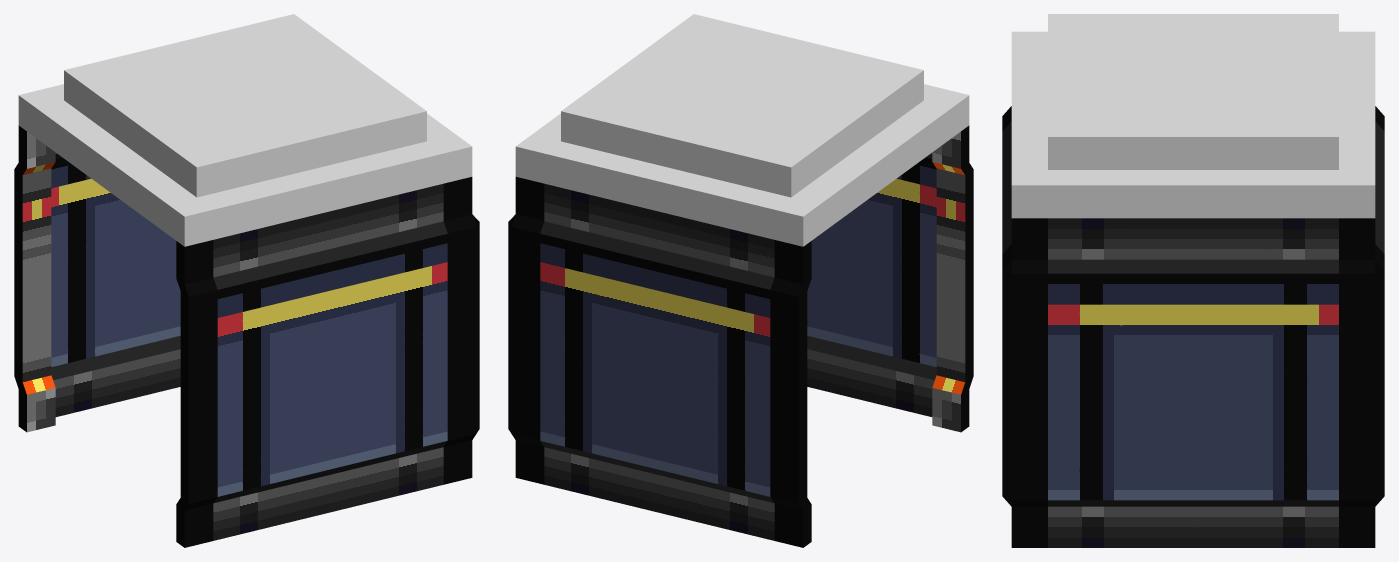
3 renders of one model, left to right at view 1: azimuth 30°, elevation 25°; view 2: azimuth 150°, elevation 25°; view 3: azimuth 270°, elevation 25°, orthographic. The views are drawn at different scales.
Parts seen in each view (by area): view 1: S, Roof, N, E; view 2: N, Roof, S, E; view 3: E, Roof, N, S.
Part boxes in pixels (x1=…): S: x1=176, y1=178, x2=476, y2=547; Roof: x1=18, y1=14, x2=472, y2=246; N: x1=14, y1=125, x2=180, y2=432; E: x1=458, y1=177, x2=479, y2=479; N: x1=511, y1=177, x2=811, y2=547; Roof: x1=515, y1=14, x2=969, y2=246; S: x1=807, y1=125, x2=973, y2=432; E: x1=508, y1=177, x2=529, y2=478; E: x1=1011, y1=218, x2=1375, y2=547; Roof: x1=1011, y1=14, x2=1375, y2=218; N: x1=1357, y1=106, x2=1384, y2=547; S: x1=1002, y1=106, x2=1029, y2=547.
Size of the model in its own units: 2.05 by 2.4 by 2.1.
2 materials, 1 textured.
